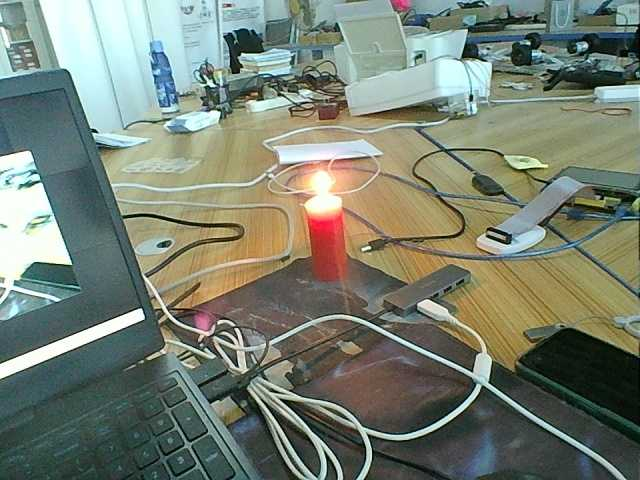candle: (297, 208, 356, 285)
fire: (296, 168, 345, 205)
